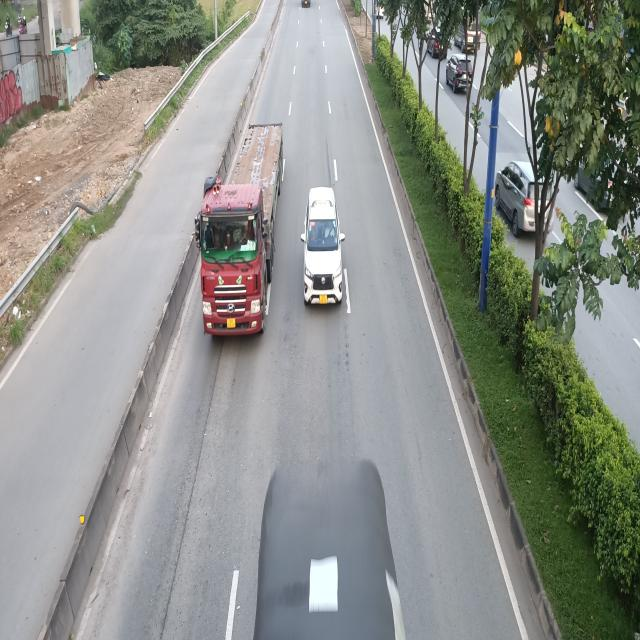car: (304, 185, 347, 307)
container: (194, 118, 283, 340)
